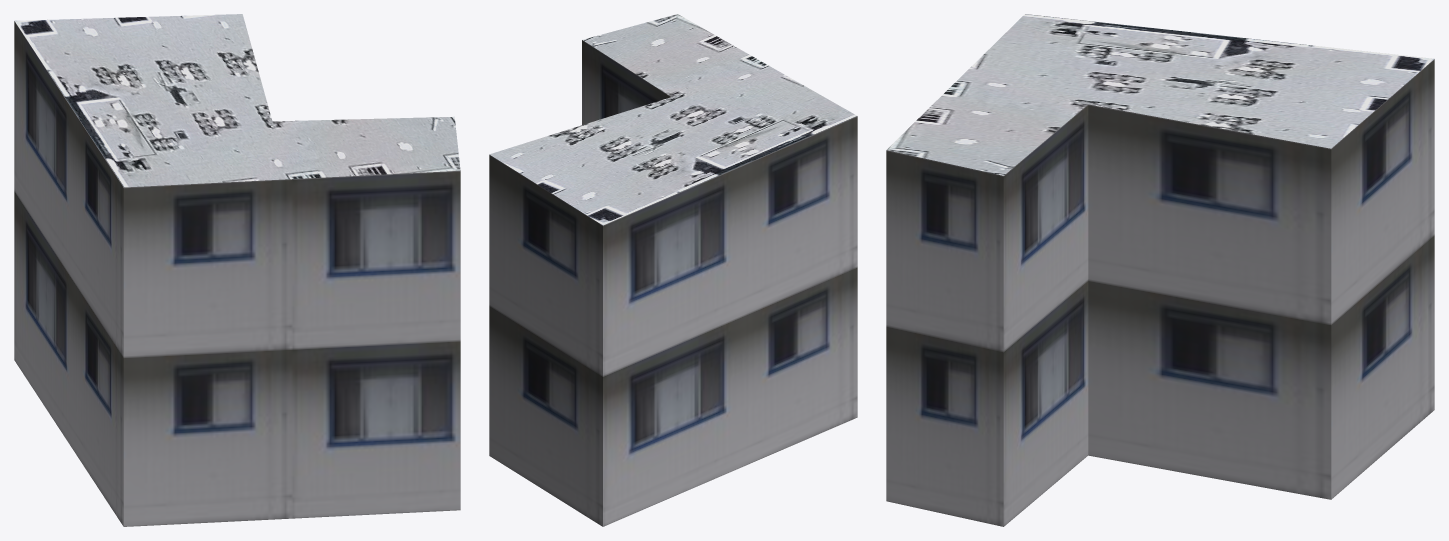
The model's file is ResTex__4199.fbx.
3 views of the same model, side by side, from view 1: azimuth 30°, elevation 25°; view 2: azimuth 150°, elevation 25°; view 3: azimuth 270°, elevation 25° (orthographic). The views are drawn at different scales.
Parts seen in each view (by area): view 1: CityEngineMaterial_9_m, CityEngineMaterial_4_m; view 2: CityEngineMaterial_9_m, CityEngineMaterial_4_m; view 3: CityEngineMaterial_9_m, CityEngineMaterial_4_m.
Boxes of the visible parts, x1,y1,x2,y2 form: CityEngineMaterial_9_m: [14, 21, 460, 526]; CityEngineMaterial_4_m: [14, 14, 460, 187]; CityEngineMaterial_9_m: [489, 40, 857, 526]; CityEngineMaterial_4_m: [489, 14, 856, 225]; CityEngineMaterial_9_m: [886, 59, 1434, 526]; CityEngineMaterial_4_m: [886, 14, 1434, 175].
Size of the model in its own units: 5.93 by 6 by 8.5.
2 materials, 2 textured.
